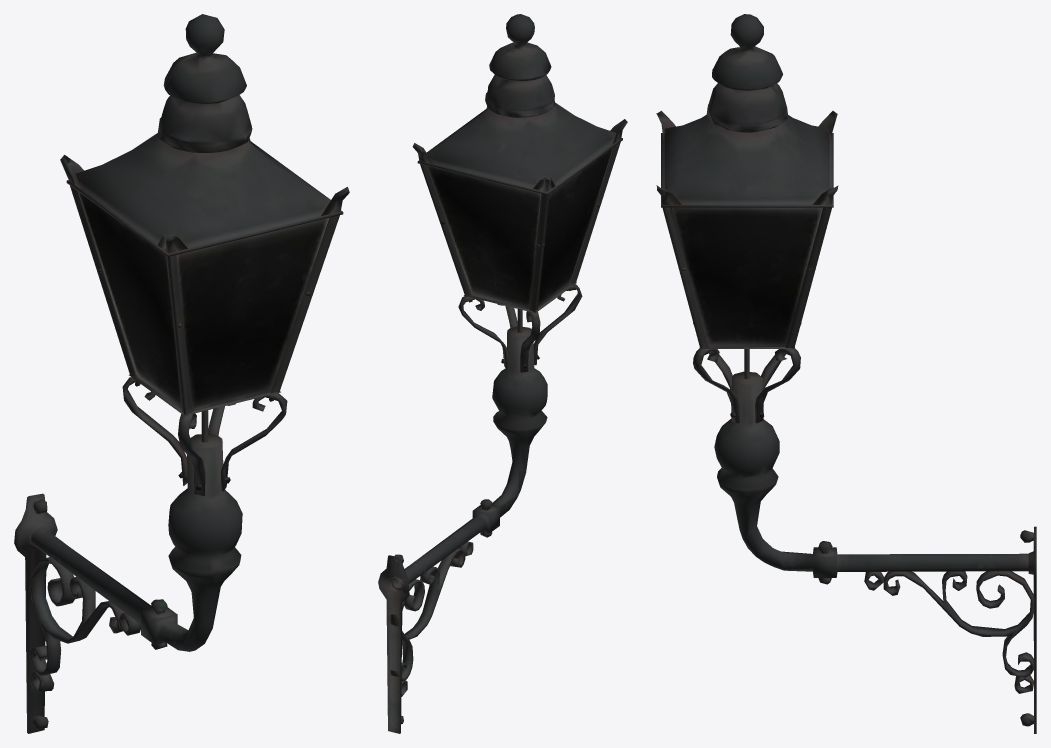
Rendered from lamp_modern.glb.
3 renders of one model, left to right at view 1: azimuth 30°, elevation 25°; view 2: azimuth 150°, elevation 25°; view 3: azimuth 270°, elevation 25°, orthographic. The views are drawn at different scales.
Visible parts, largest first — view 1: street_lamp_02; view 2: street_lamp_02; view 3: street_lamp_02.
Part boxes in pixels (x1,y1,x2,y2): street_lamp_02: (14, 14, 349, 733); street_lamp_02: (378, 14, 627, 733); street_lamp_02: (656, 14, 1036, 733).
Bounding box in the file's own units: 0.3856 × 1.67 × 0.8066.
2 materials, 2 textured.
